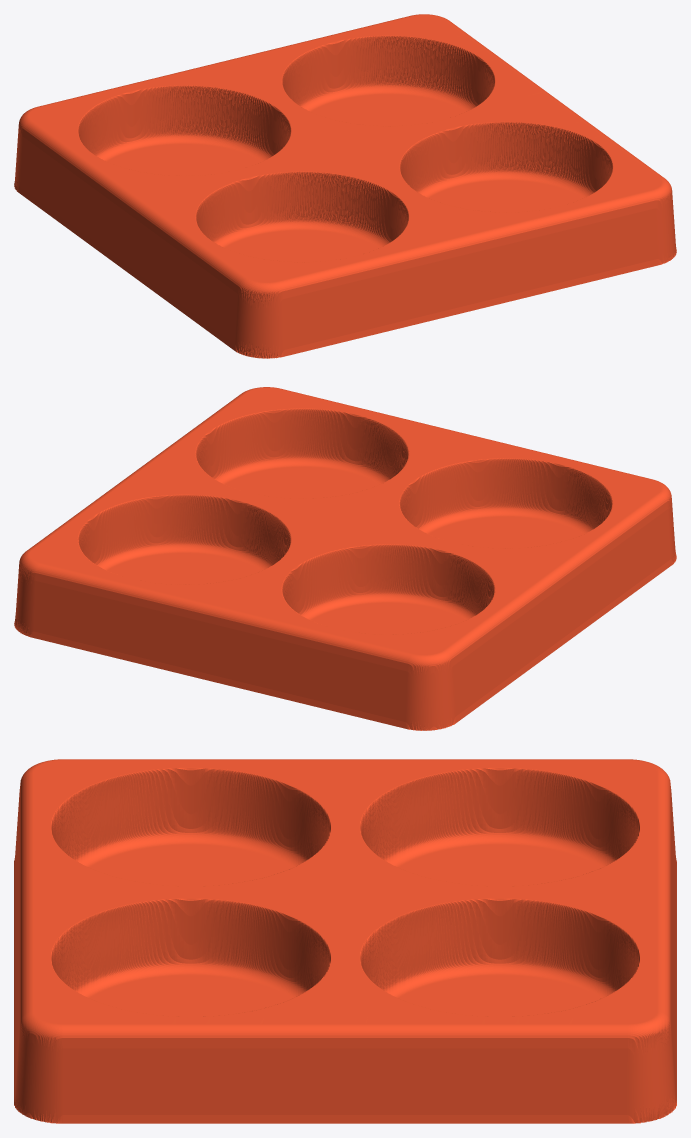
The model's file is mold.glb.
3 renders of one model, top to bottom at view 1: azimuth 30°, elevation 25°; view 2: azimuth 150°, elevation 25°; view 3: azimuth 270°, elevation 25°, orthographic. The views are drawn at different scales.
Visible parts, largest first — view 1: geometry_0; view 2: geometry_0; view 3: geometry_0.
Boxes of the visible parts, bbox=[...] form: geometry_0: bbox=[14, 14, 676, 358]; geometry_0: bbox=[14, 387, 676, 730]; geometry_0: bbox=[14, 759, 676, 1123].
Size of the model in its own units: 0.1218 by 0.0185 by 0.1218.
